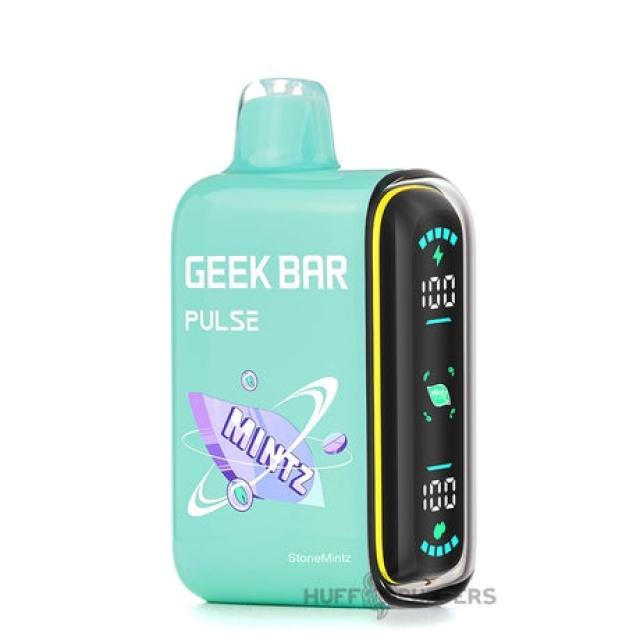Vape-images: (168, 75, 478, 611)
